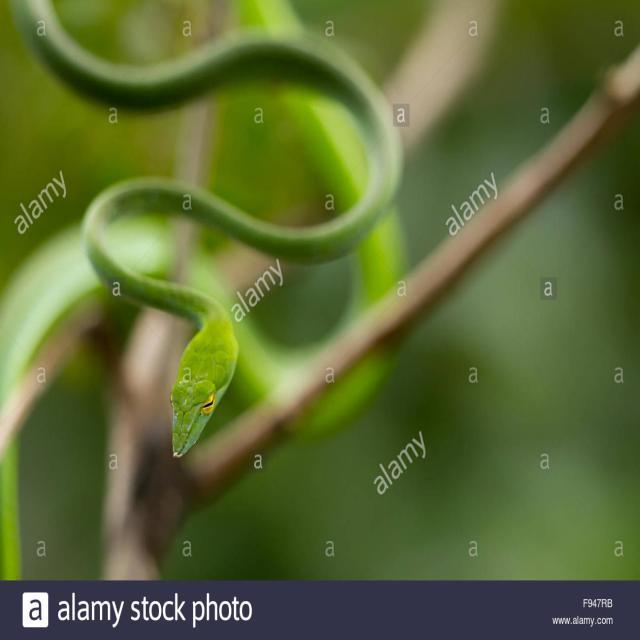Snake: (9, 0, 407, 458)
